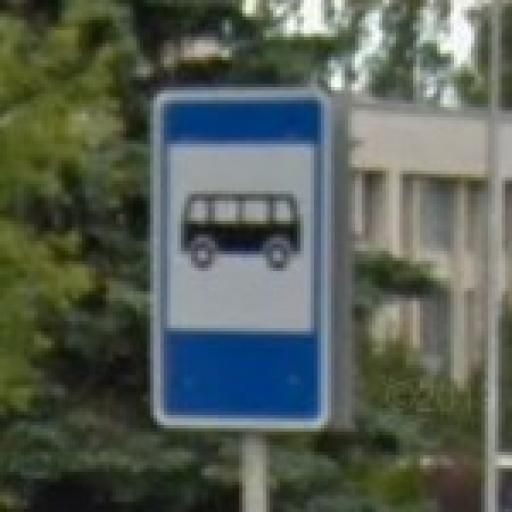traffic_sign: (144, 81, 339, 436)
